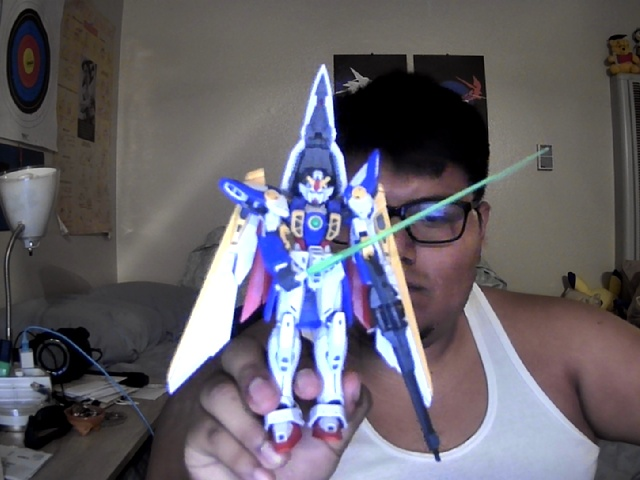Wing-01: (167, 67, 551, 465)
